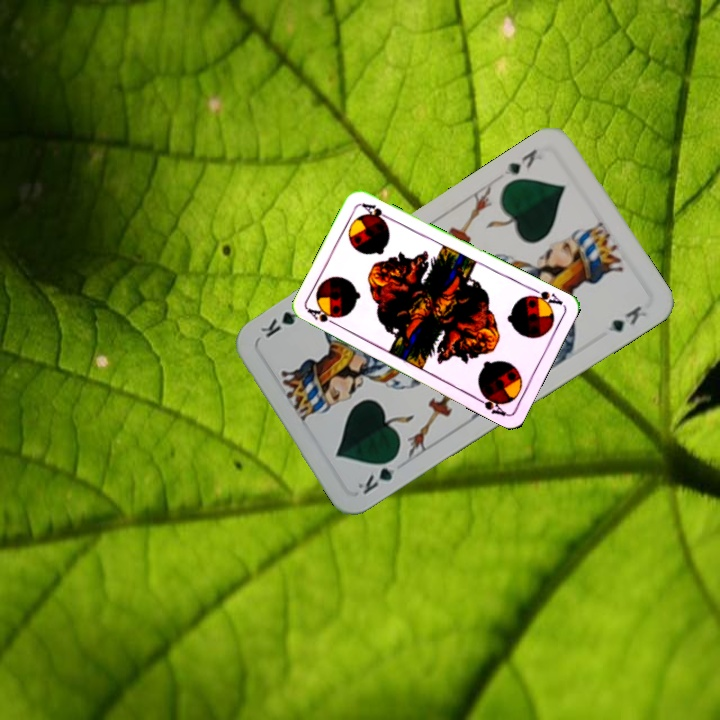GK: (353, 452, 401, 498), (500, 144, 540, 178)
SA: (524, 283, 565, 311), (304, 304, 343, 329)
